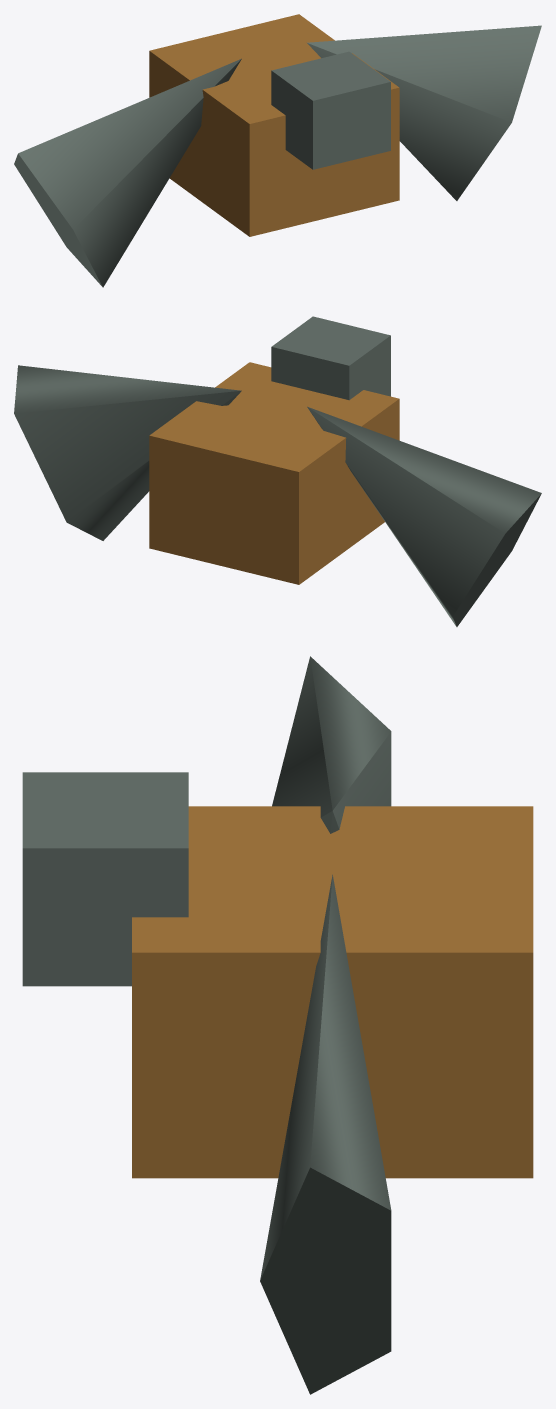
Rendered from steam_drone.glb.
3 renders of one model, top to bottom at view 1: azimuth 30°, elevation 25°; view 2: azimuth 150°, elevation 25°; view 3: azimuth 270°, elevation 25°, orthographic. The views are drawn at different scales.
Visible parts, largest first — view 1: body_core, wing_-1, wing_1, head_core; view 2: body_core, wing_1, wing_-1, head_core; view 3: body_core, wing_1, head_core, wing_-1.
Boxes of the visible parts, x1=… form: body_core: x1=149, y1=14, x2=399, y2=236; wing_-1: x1=14, y1=58, x2=241, y2=287; wing_1: x1=307, y1=25, x2=541, y2=200; head_core: x1=271, y1=51, x2=390, y2=169; body_core: x1=149, y1=362, x2=399, y2=584; wing_1: x1=14, y1=365, x2=241, y2=540; wing_-1: x1=307, y1=406, x2=541, y2=626; head_core: x1=271, y1=316, x2=390, y2=400; body_core: x1=132, y1=806, x2=533, y2=1178; wing_1: x1=260, y1=874, x2=391, y2=1394; head_core: x1=22, y1=772, x2=188, y2=986; wing_-1: x1=272, y1=656, x2=391, y2=833.
Size of what is drawn, in the model's own units: 4.37 by 1.64 by 1.85.
